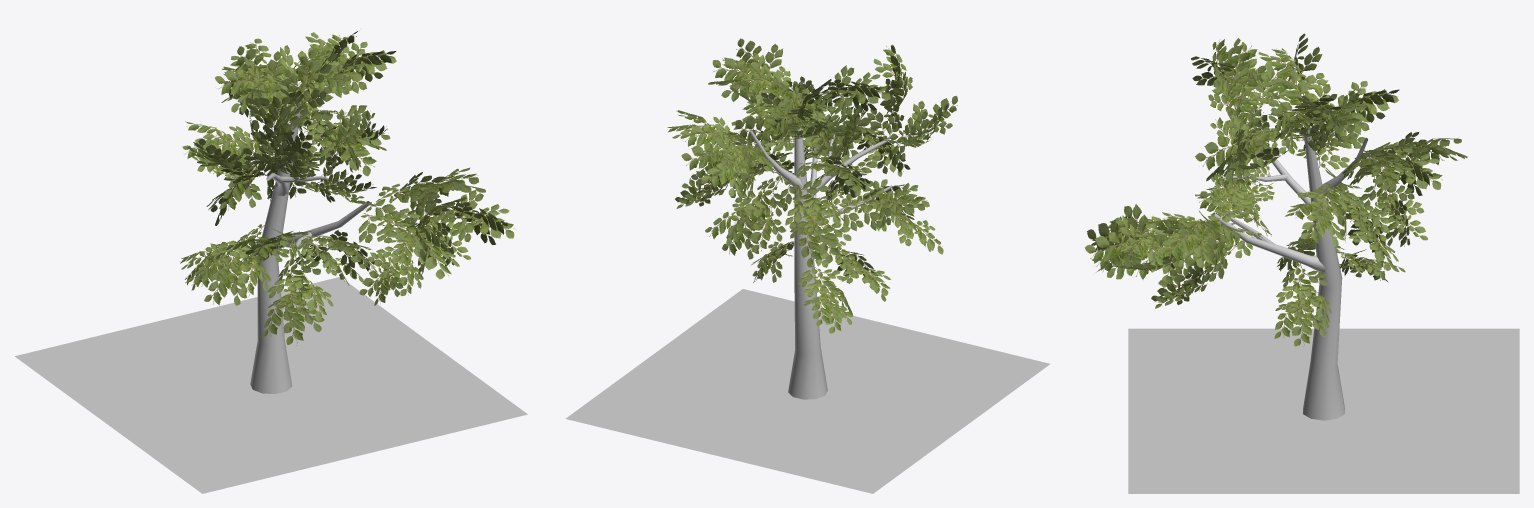
Rendered from Tree test.fbx.
The picture shows the model from 3 angles, left to right: view 1: azimuth 30°, elevation 25°; view 2: azimuth 150°, elevation 25°; view 3: azimuth 270°, elevation 25°; orthographic projection. The views are drawn at different scales.
Parts seen in each view (by area): view 1: groundplane_Geo, Tree_trunk, pPlane11 (×6), pPlane10 (×4), pPlane9 (×4), pPlane24 (×2), pPlane23 (×2), pPlane21 (×2), pPlane27 (×2), pPlane8, pPlane31, pPlane17 (+6 smaller); view 2: groundplane_Geo, pPlane11 (×8), Tree_trunk, pPlane10 (×4), pPlane8 (×4), pPlane9 (×3), pPlane7 (×3), pPlane16, pPlane14, pPlane29, pPlane31, pPlane19 (+4 smaller); view 3: groundplane_Geo, pPlane11 (×10), Tree_trunk, pPlane10 (×8), pPlane7 (×6), pPlane8 (×5), pPlane9 (×3), pPlane26 (×2), pPlane25 (×2), Tree_Branch, pPlane30, pPlane22 (+6 smaller).
Part boxes in pixels (box(x1,y1,x2,y2)): groundplane_Geo: box(15, 277, 527, 493); Tree_trunk: box(250, 105, 301, 393); pPlane11 (×6): box(185, 46, 507, 296); pPlane10 (×4): box(204, 41, 514, 305); pPlane9 (×4): box(219, 159, 423, 296); pPlane24 (×2): box(243, 133, 422, 243); pPlane23 (×2): box(249, 95, 459, 279); pPlane21 (×2): box(284, 117, 357, 320); pPlane27 (×2): box(221, 155, 428, 223); pPlane8: box(283, 49, 333, 110); pPlane31: box(420, 167, 478, 213); pPlane17: box(278, 291, 324, 345); groundplane_Geo: box(565, 289, 1049, 493); pPlane11 (×8): box(681, 38, 890, 326); Tree_trunk: box(788, 115, 827, 399); pPlane10 (×4): box(701, 72, 890, 263); pPlane8 (×4): box(754, 65, 842, 299); pPlane9 (×3): box(681, 116, 790, 282); pPlane7 (×3): box(735, 179, 908, 239); pPlane16: box(878, 183, 924, 226); pPlane14: box(837, 186, 885, 231); pPlane29: box(735, 109, 790, 163); pPlane31: box(912, 95, 957, 134); pPlane19: box(897, 219, 943, 254); groundplane_Geo: box(1128, 328, 1519, 493); pPlane11 (×10): box(1084, 33, 1433, 338); Tree_trunk: box(1303, 127, 1344, 420); pPlane10 (×8): box(1151, 80, 1442, 346); pPlane7 (×6): box(1118, 57, 1414, 325); pPlane8 (×5): box(1248, 70, 1358, 305); pPlane9 (×3): box(1252, 60, 1400, 326); pPlane26 (×2): box(1126, 45, 1265, 287); pPlane25 (×2): box(1087, 56, 1235, 267); Tree_Branch: box(1212, 212, 1330, 272); pPlane30: box(1157, 229, 1214, 267); pPlane22: box(1208, 55, 1248, 112).
Size of the model in its own units: 200 by 209 by 225.
